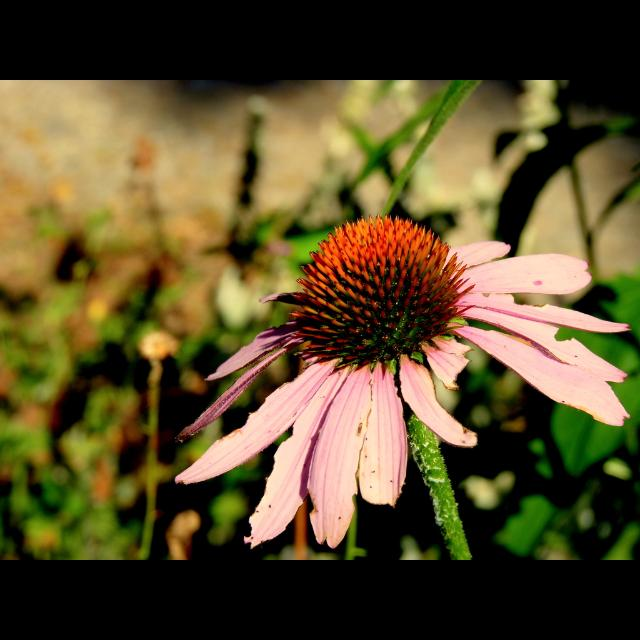Flower: (176, 201, 606, 533), (136, 332, 176, 362)
